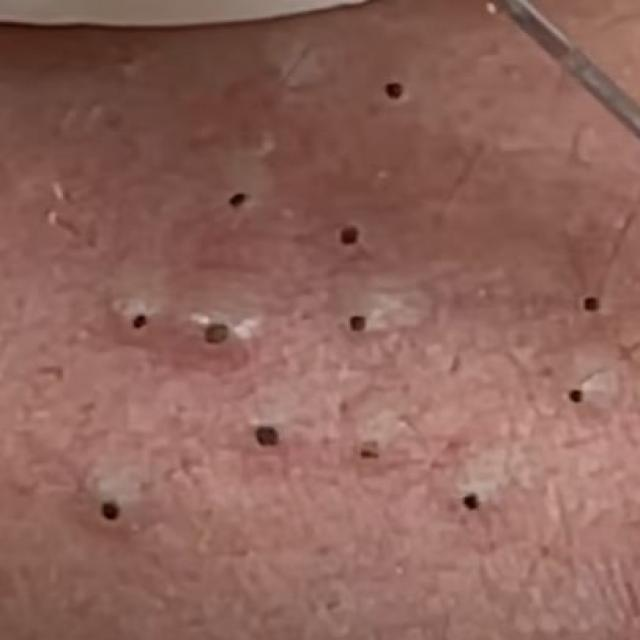dark spot: (84, 489, 138, 533), (243, 411, 285, 456), (371, 78, 419, 116), (216, 186, 262, 225), (327, 305, 376, 341), (327, 213, 368, 254), (113, 307, 155, 346), (448, 482, 483, 516), (198, 320, 232, 352), (570, 290, 601, 321)
